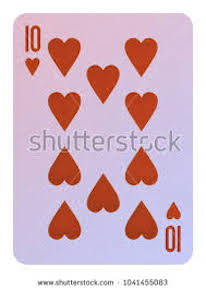TenOfHearts: (10, 9, 195, 267)
